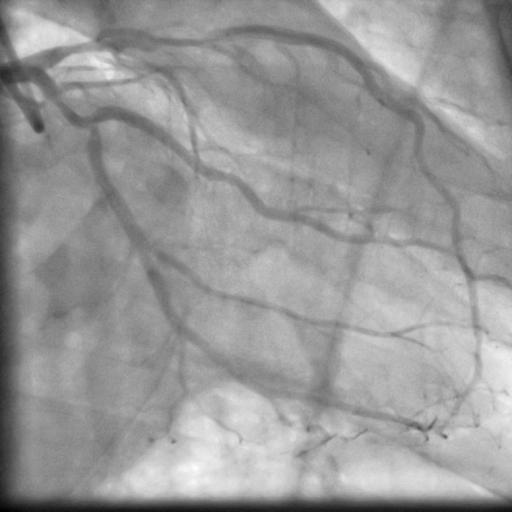Stenosis: (168, 28, 231, 47)
